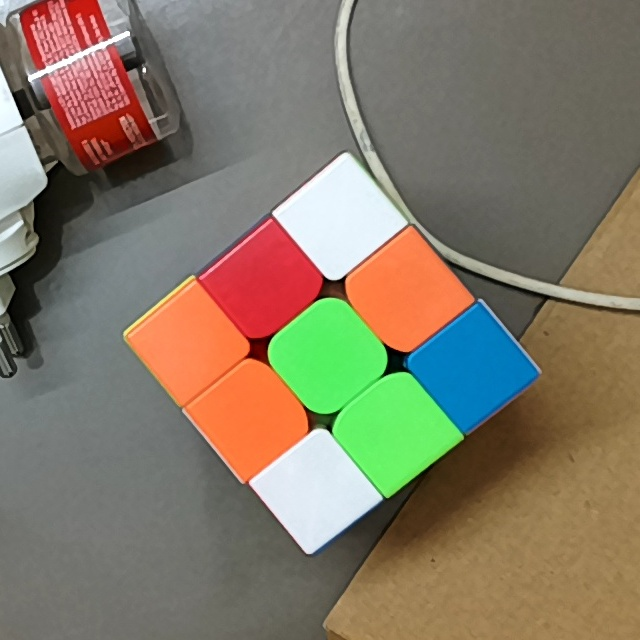tile: (359, 400, 430, 465), (303, 186, 373, 251), (373, 261, 440, 328), (216, 385, 284, 450), (293, 325, 359, 390), (441, 337, 503, 405), (286, 459, 350, 524), (158, 311, 219, 377), (233, 253, 297, 312)
